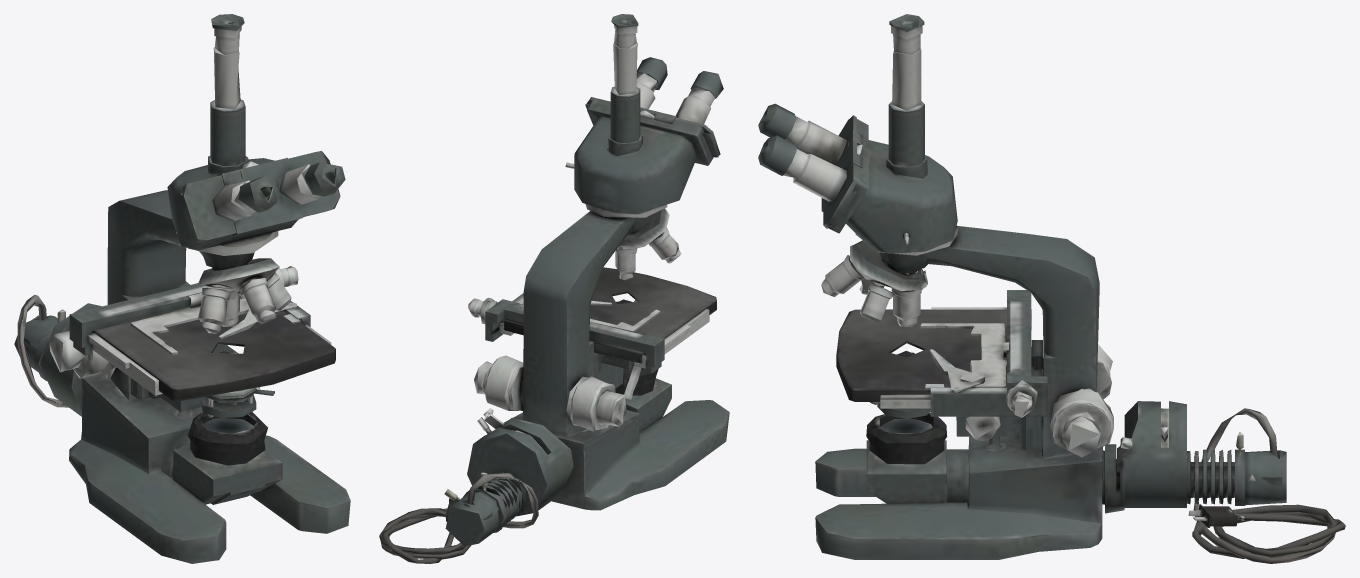
The model's file is microscope_lod1.glb.
3 views of the same model, side by side, from view 1: azimuth 30°, elevation 25°; view 2: azimuth 150°, elevation 25°; view 3: azimuth 270°, elevation 25° (orthographic). The views are drawn at different scales.
Bounding box in the file's own units: 0.2145 × 0.4617 × 0.4967.
1 material, 1 textured.
